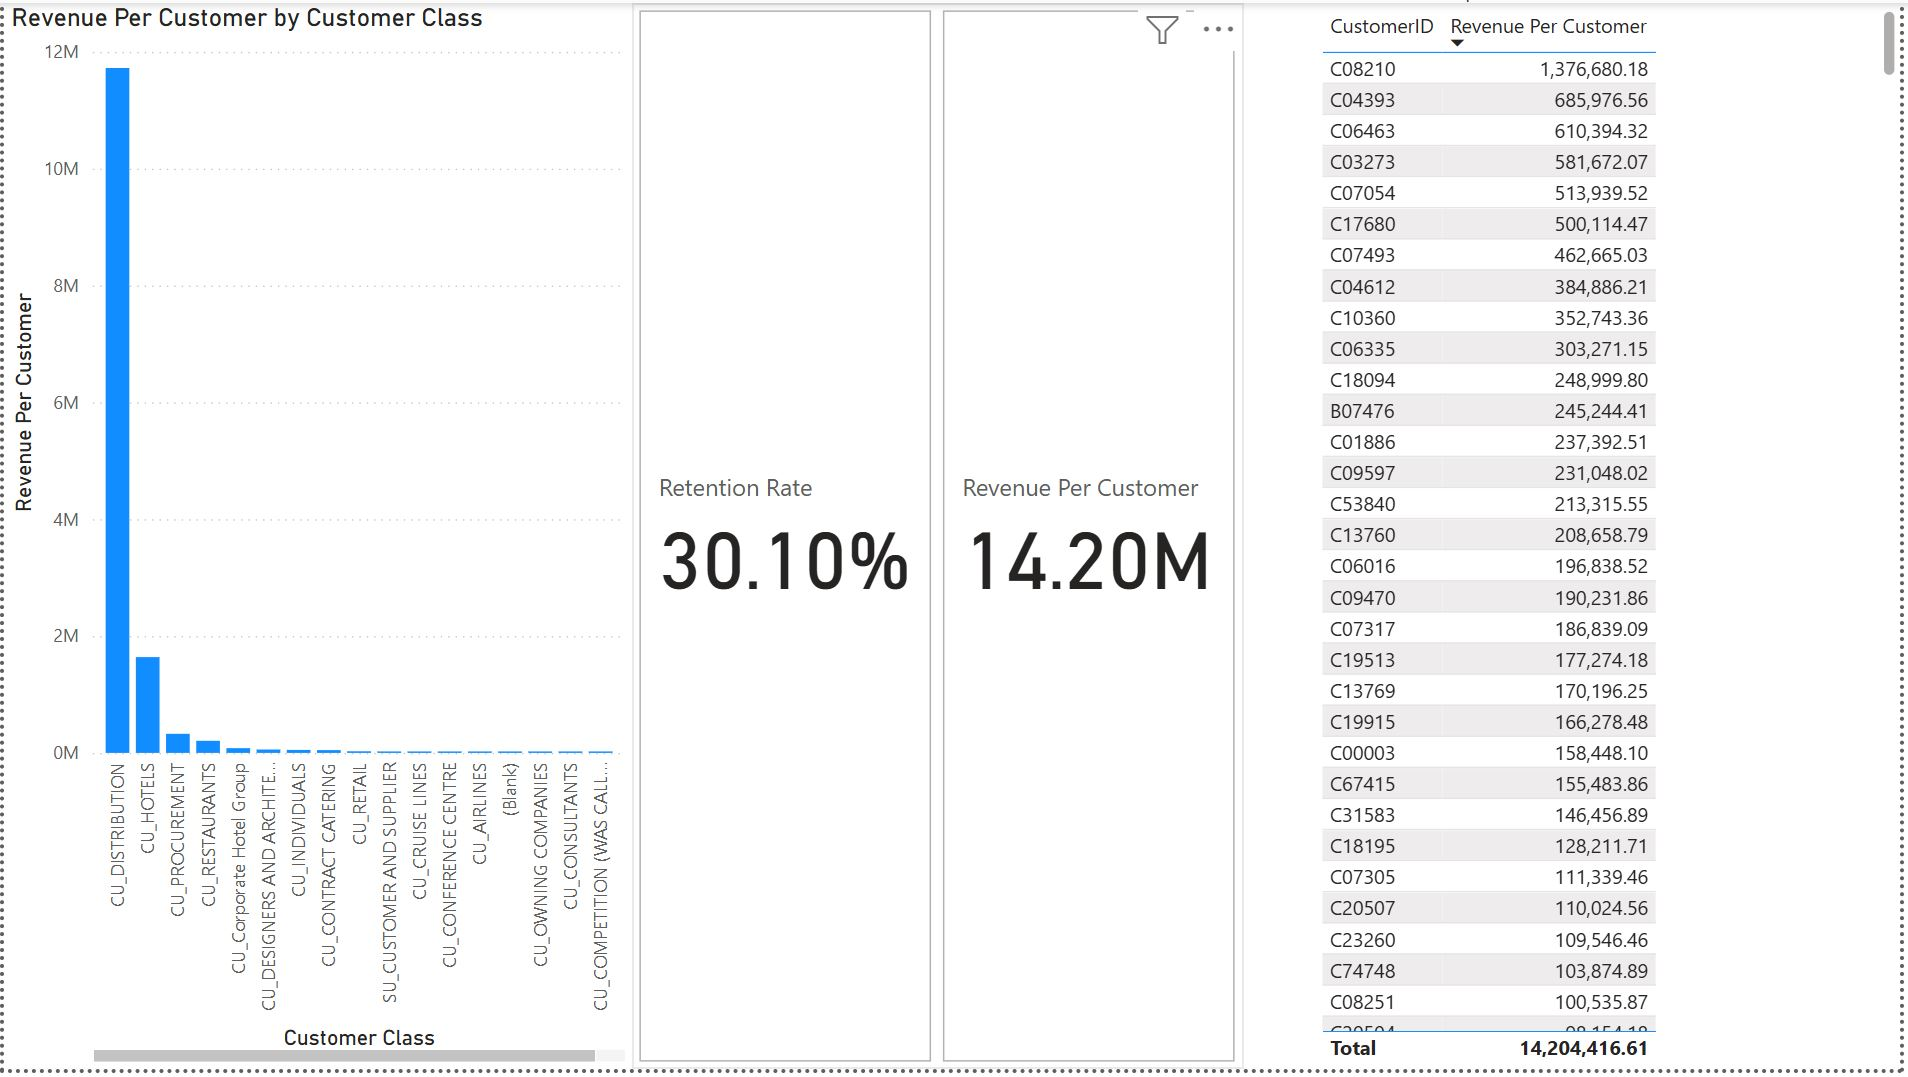

What the dashboard file says about the page in this screenshot:
{"tool":"powerbi","page":{"name":"Customer Trends","canvas":[1280,720],"ordinal":3},"visuals":[{"type":"clusteredColumnChart","fields":{"Category":["Craster Technical Exercise - Customer Data.Customer Class"],"Y":["Sales Data Combined.Revenue Per Customer"]},"box":[0,0,424.4,720],"z":0},{"type":"cardVisual","fields":{"Data":["Sales Data Combined.Retention Rate","Sales Data Combined.Revenue Per Customer"]},"box":[424.4,0,413.3,720],"z":1000},{"type":"tableEx","fields":{"Values":["Sales Data Combined.CustomerID","Sales Data Combined.Revenue Per Customer"]},"box":[884.4,0,397.8,720],"z":2000}]}

Visuals, with their boxes in screenshot pixels (x1, y1, x2, y2), scaled from the page's 1280x720 canvas onto the 1908x1077 screenshot:
clusteredColumnChart - Craster Technical Exercise - Customer Data.Customer Class x Sales Data Combined.Revenue Per Customer: bbox=(0, 0, 633, 1076)
cardVisual - Sales Data Combined.Retention Rate x Sales Data Combined.Revenue Per Customer: bbox=(633, 0, 1249, 1076)
tableEx - Sales Data Combined.CustomerID x Sales Data Combined.Revenue Per Customer: bbox=(1318, 0, 1907, 1076)
